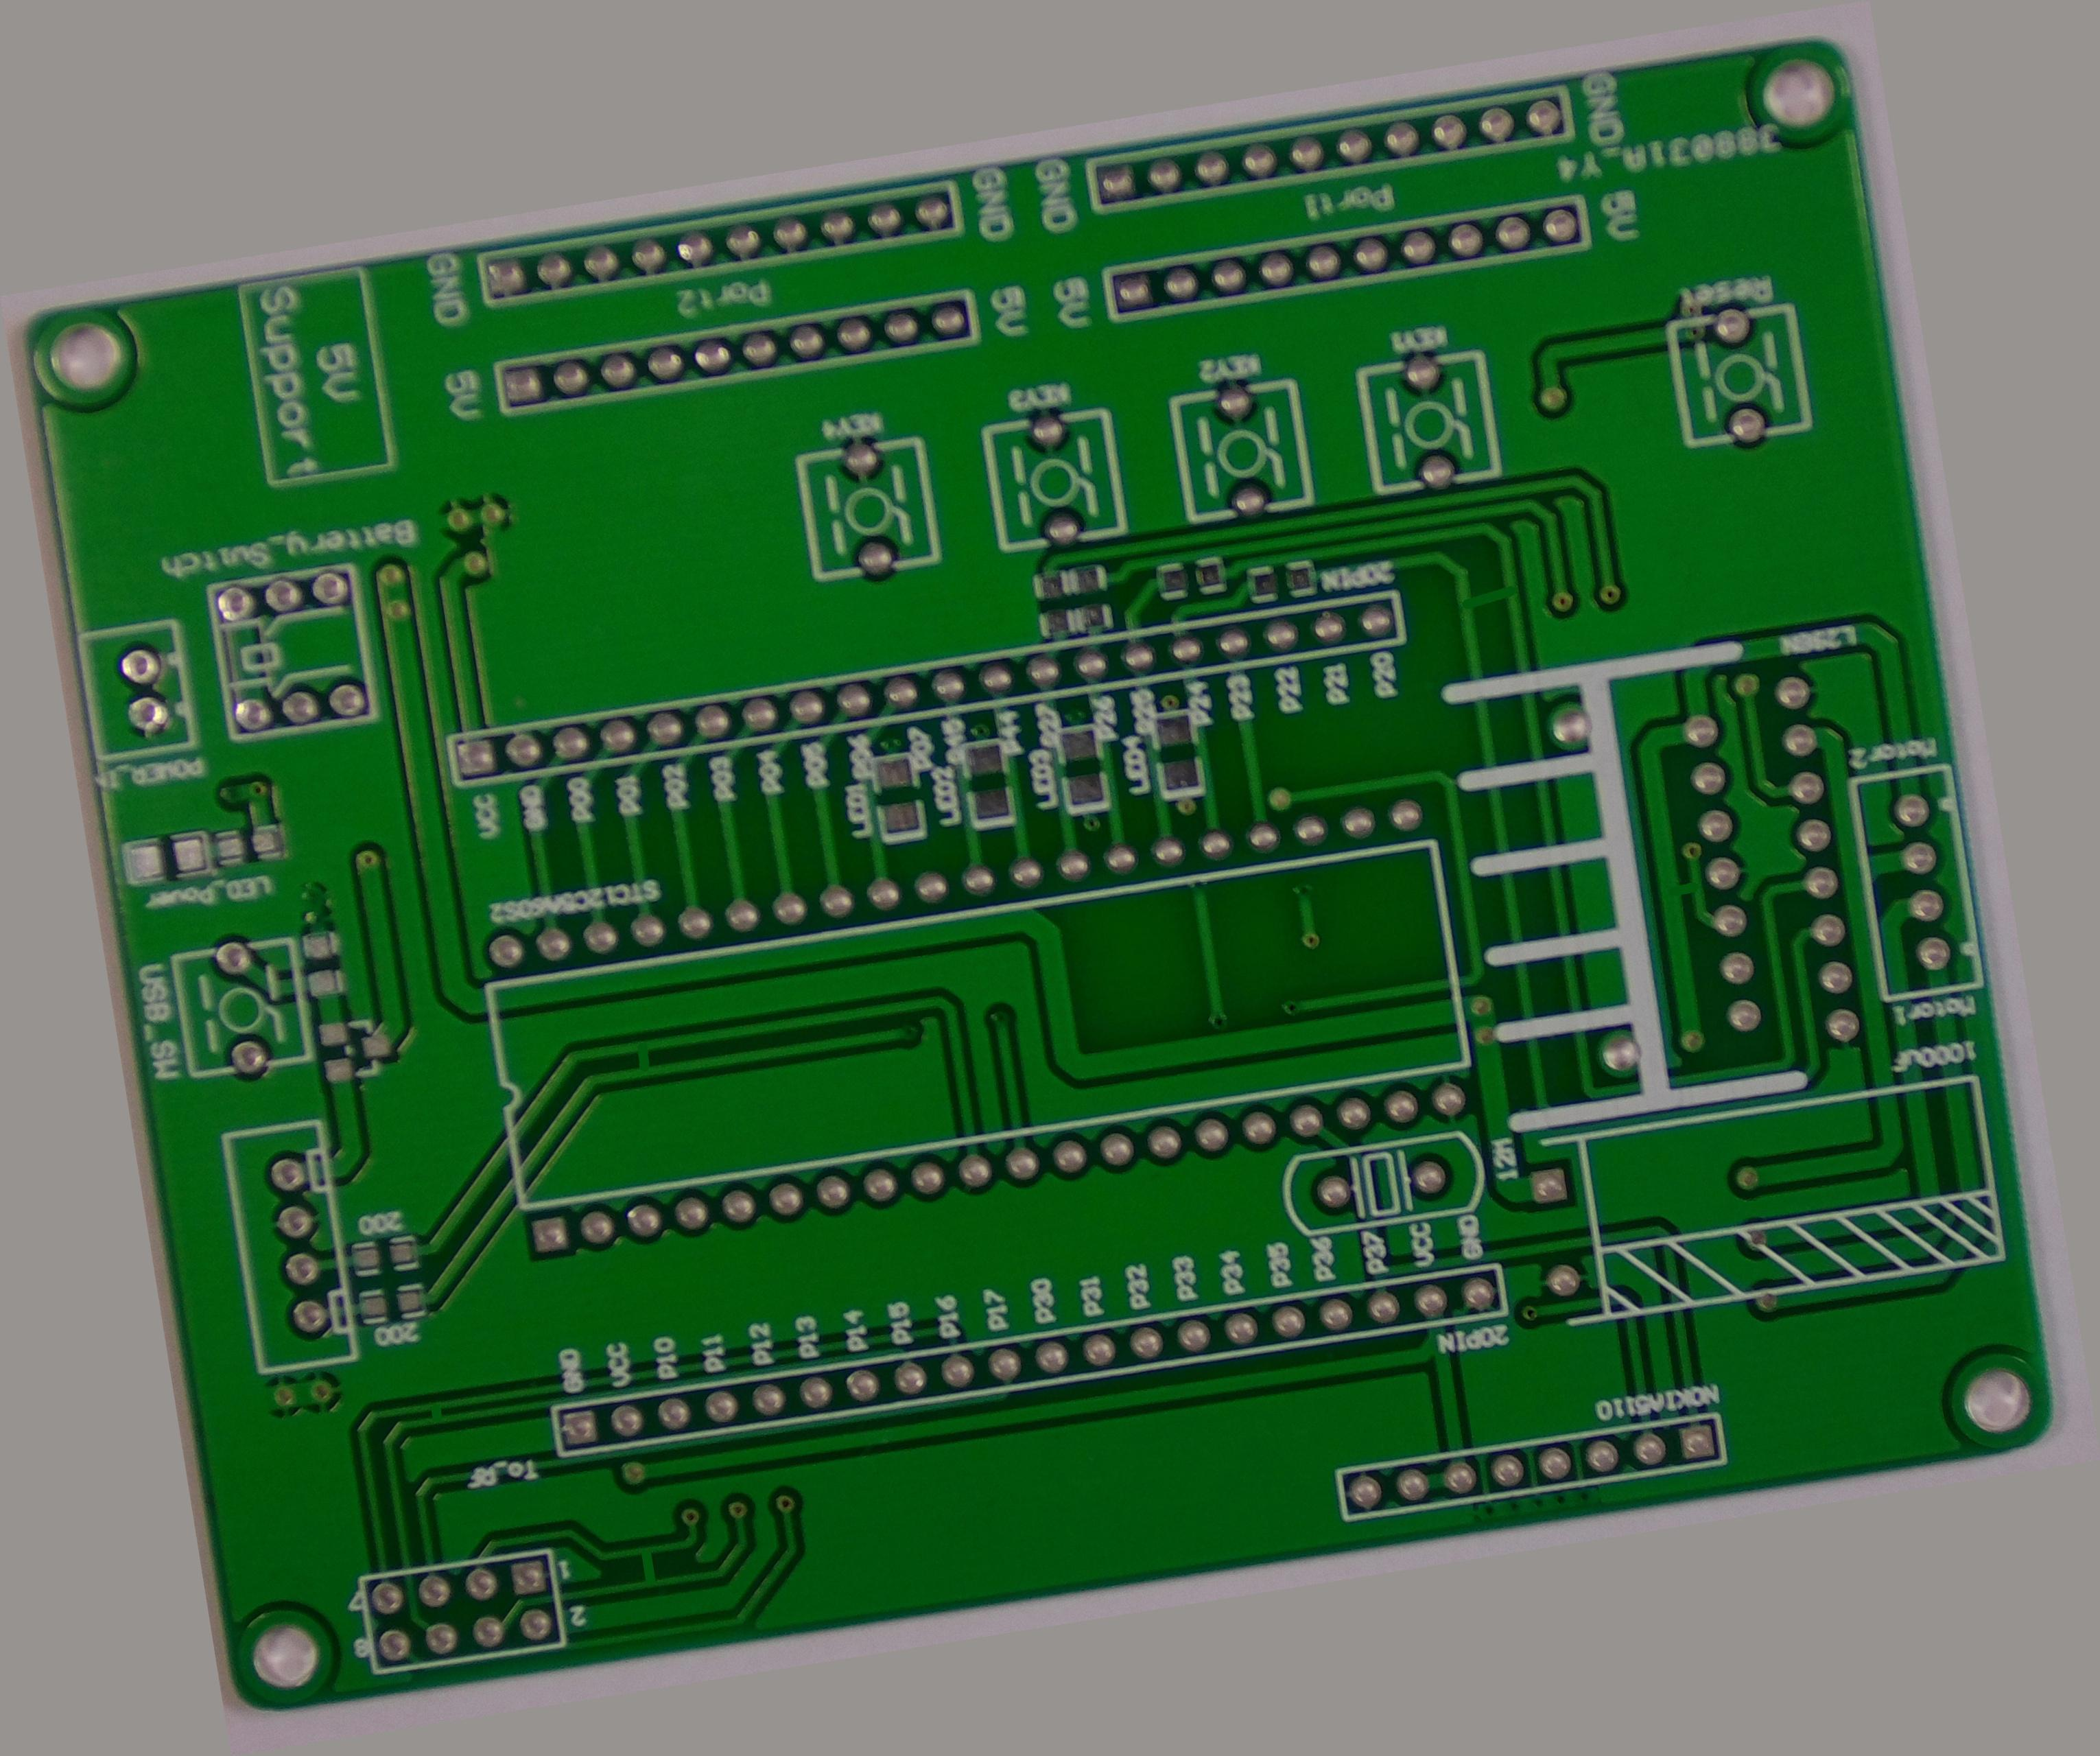short: (1439, 560, 1537, 636), (614, 1533, 677, 1597), (610, 1027, 673, 1090), (1650, 860, 1709, 917), (408, 1392, 460, 1433)
